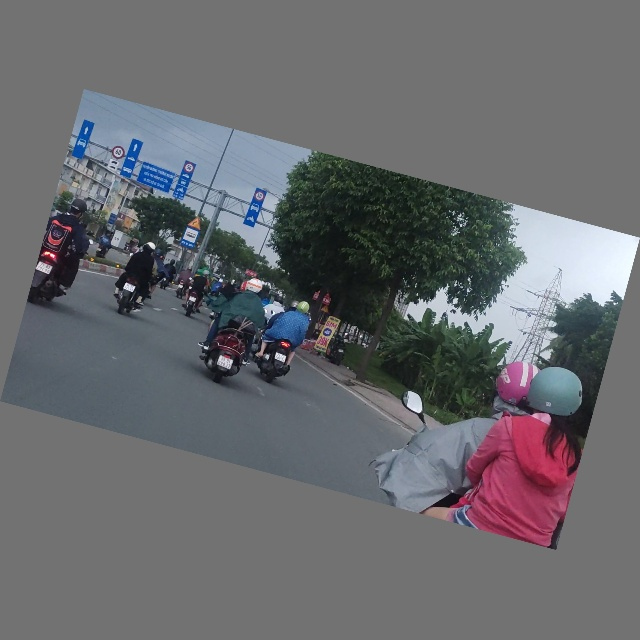I.434a: (179, 226, 200, 250)
P.127*50: (183, 162, 195, 175), (254, 191, 266, 202)
P.127*60: (110, 145, 126, 161)
S.505a*Xe tai va cong: (106, 158, 120, 173)
W.201b: (186, 215, 204, 232)
